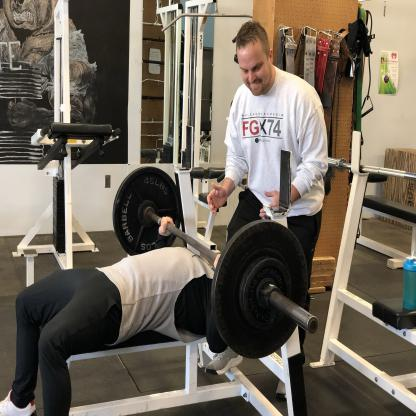Barbell: (308, 314, 320, 338)
